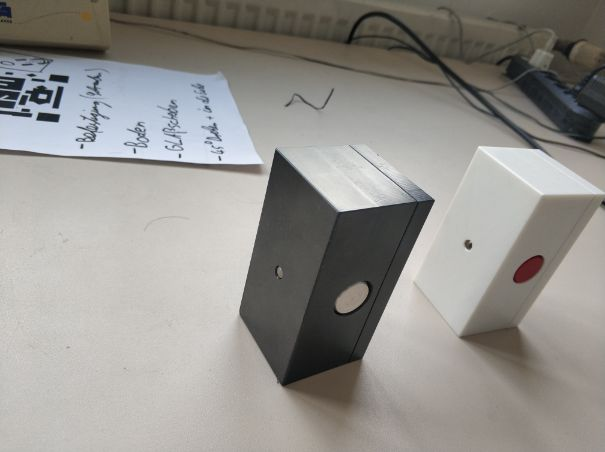black+black+silver: (235, 138, 439, 387)
white+white+red: (409, 147, 605, 341)
